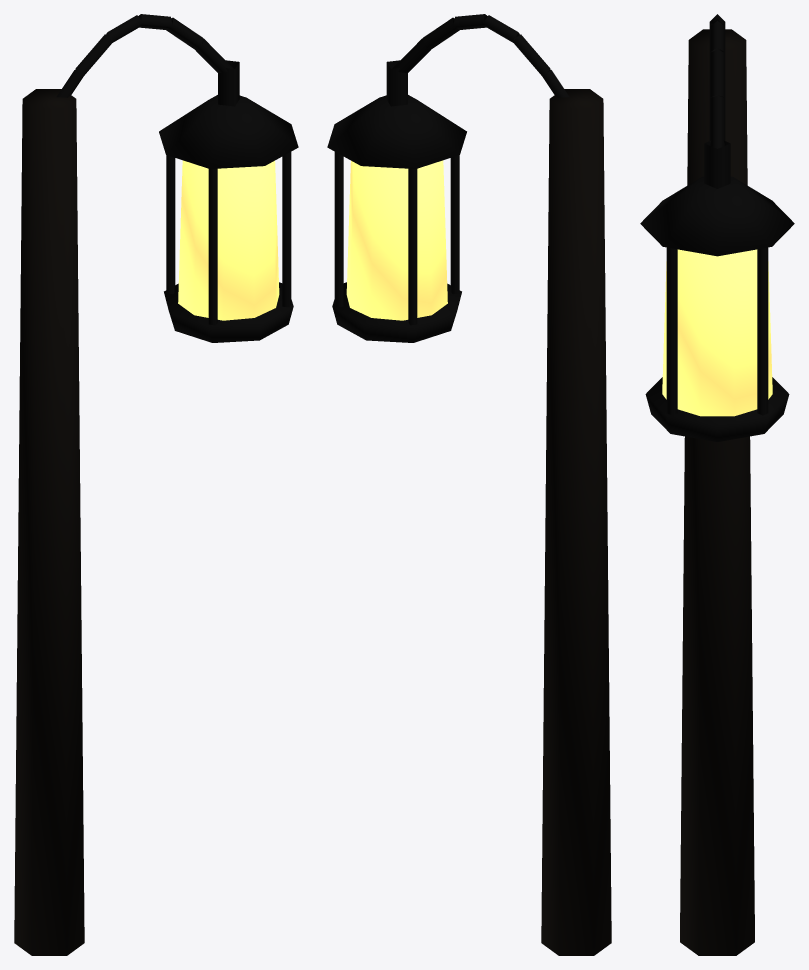
The model's file is path-lantern.glb.
The picture shows the model from 3 angles, left to right: view 1: azimuth 30°, elevation 25°; view 2: azimuth 150°, elevation 25°; view 3: azimuth 270°, elevation 25°; orthographic projection. The views are drawn at different scales.
Visible parts, largest first — view 1: lantern-post, lantern-iron, lantern-glow; view 2: lantern-post, lantern-iron, lantern-glow; view 3: lantern-post, lantern-iron, lantern-glow.
Part boxes in pixels (<box>): lantern-post: <box>14,89,84,955</box>; lantern-iron: <box>56,14,298,342</box>; lantern-glow: <box>178,160,279,320</box>; lantern-post: <box>541,89,611,955</box>; lantern-iron: <box>327,14,569,342</box>; lantern-glow: <box>346,160,447,320</box>; lantern-post: <box>680,29,754,955</box>; lantern-iron: <box>640,14,794,441</box>; lantern-glow: <box>662,249,772,416</box>.
Bounding box in the file's own units: 0.2994 × 0.9667 × 0.14.
